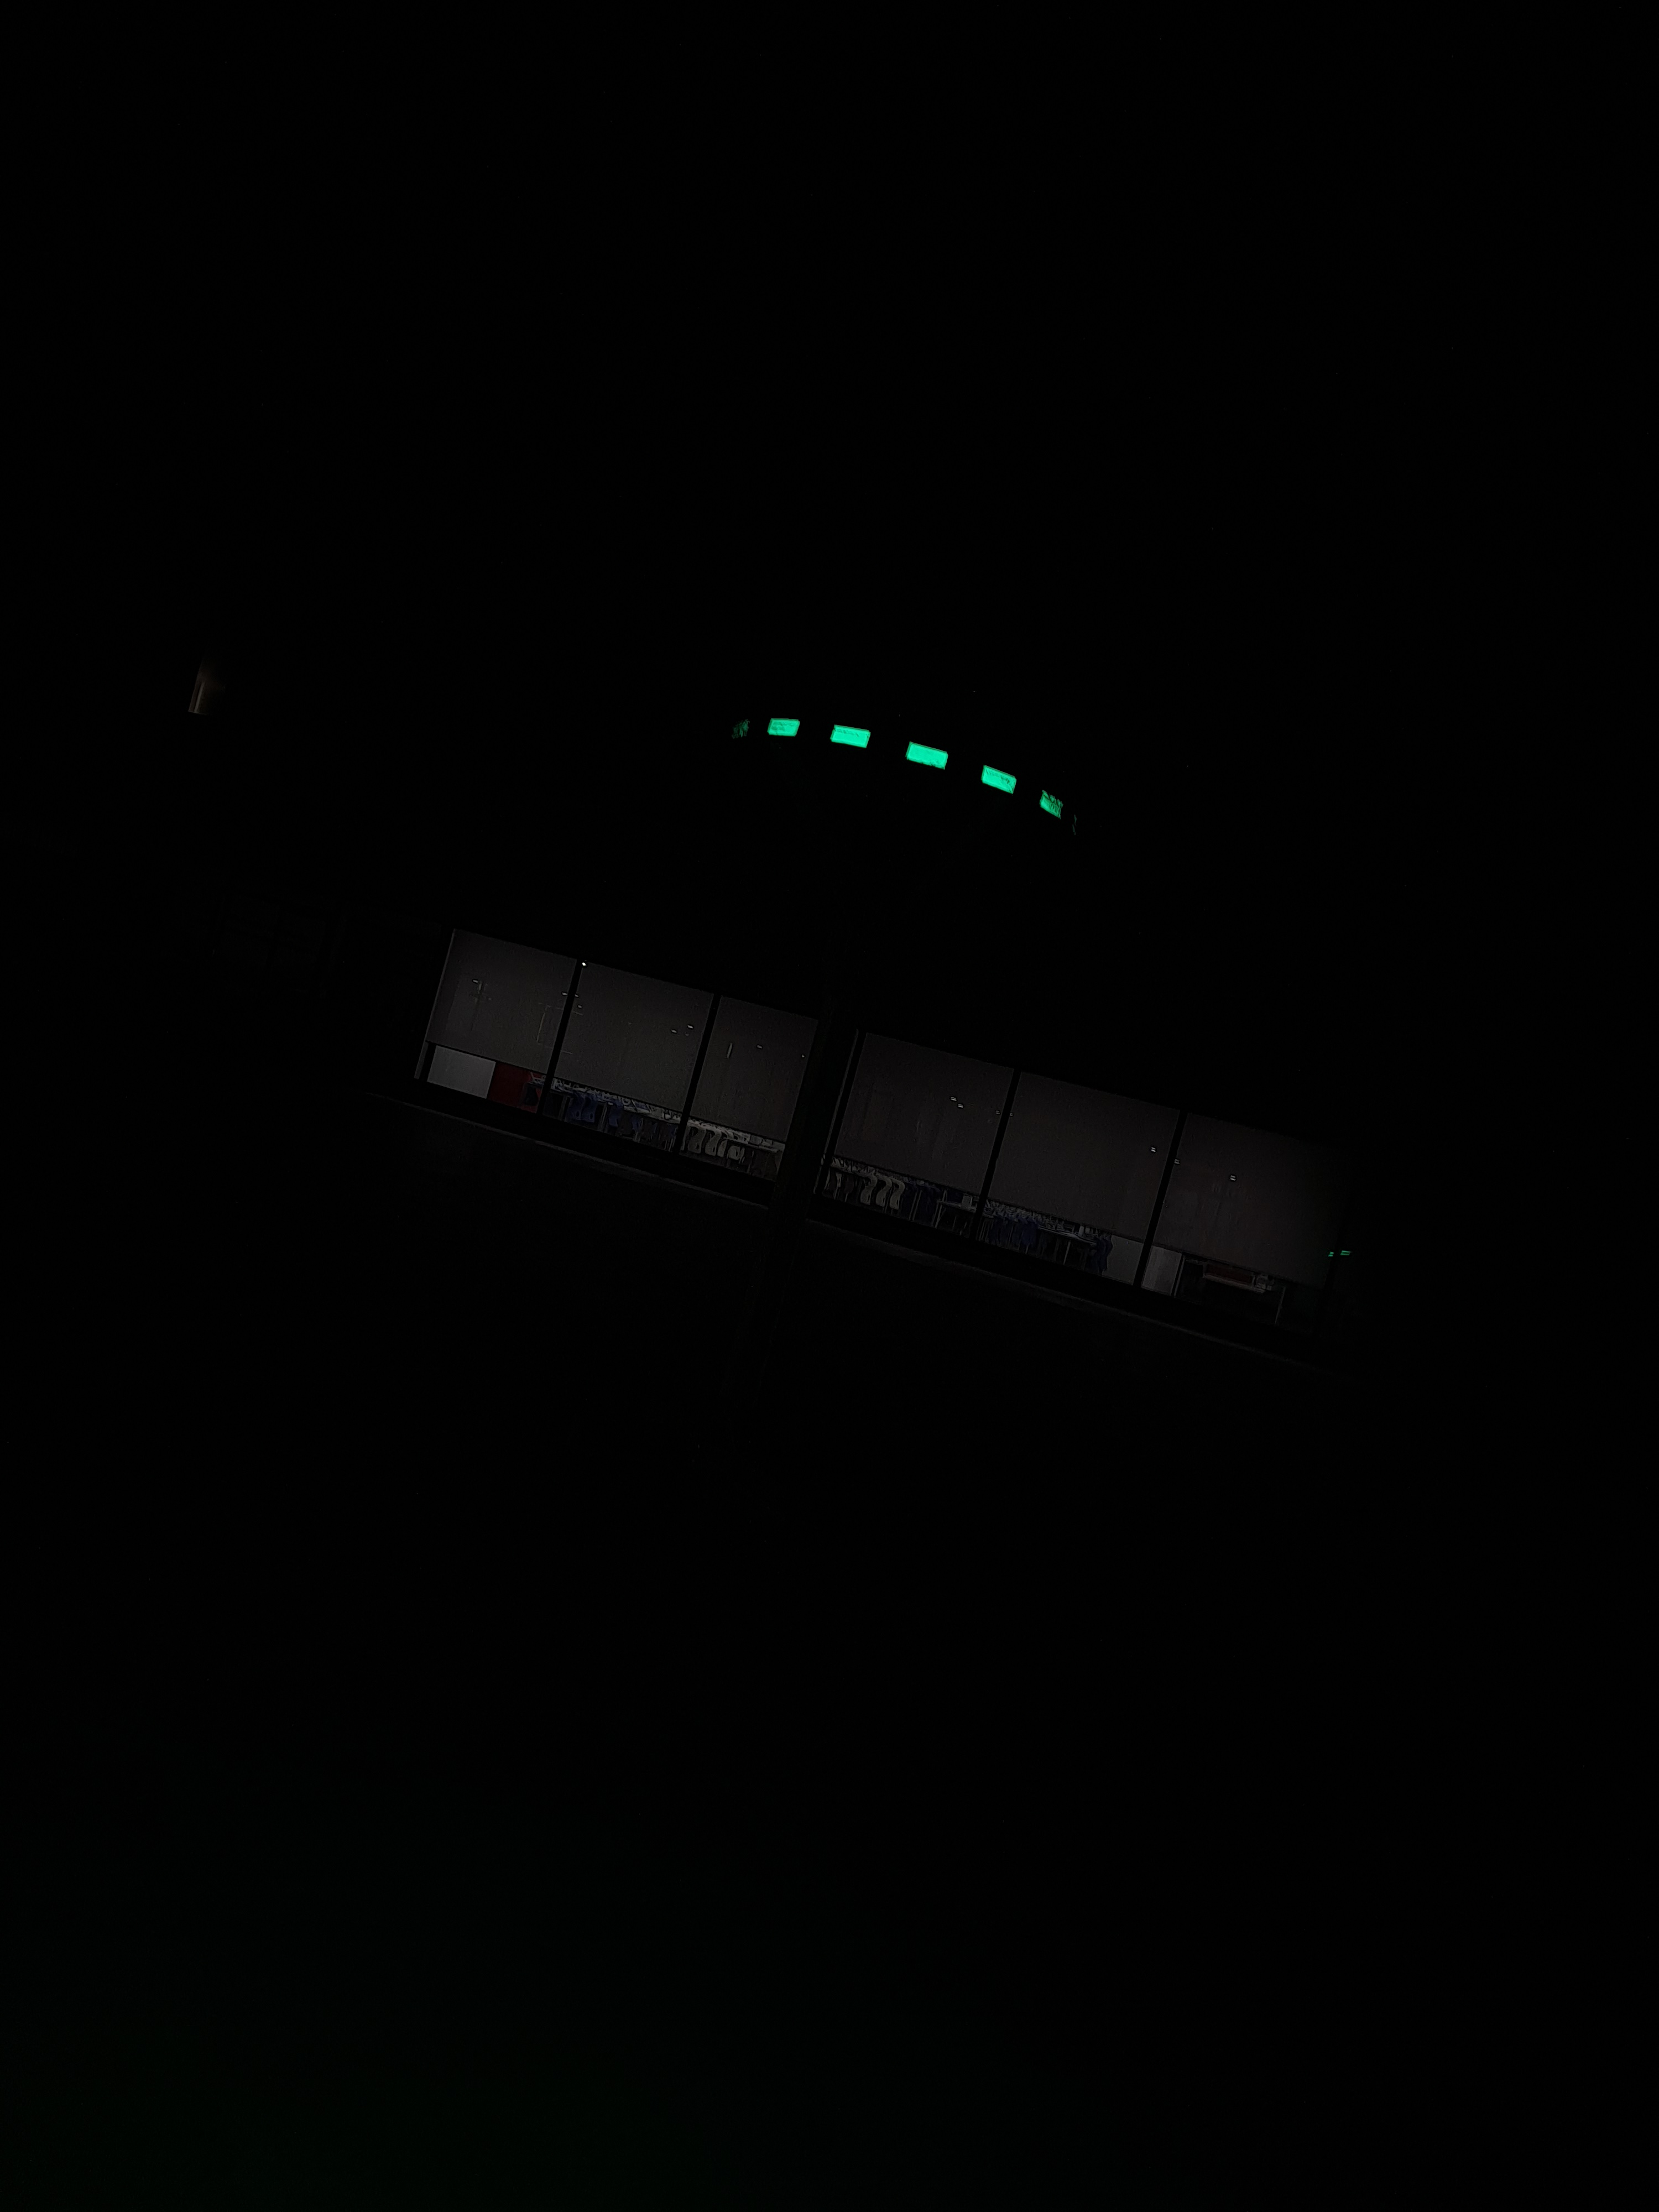hoop: (762, 700, 1068, 822)
